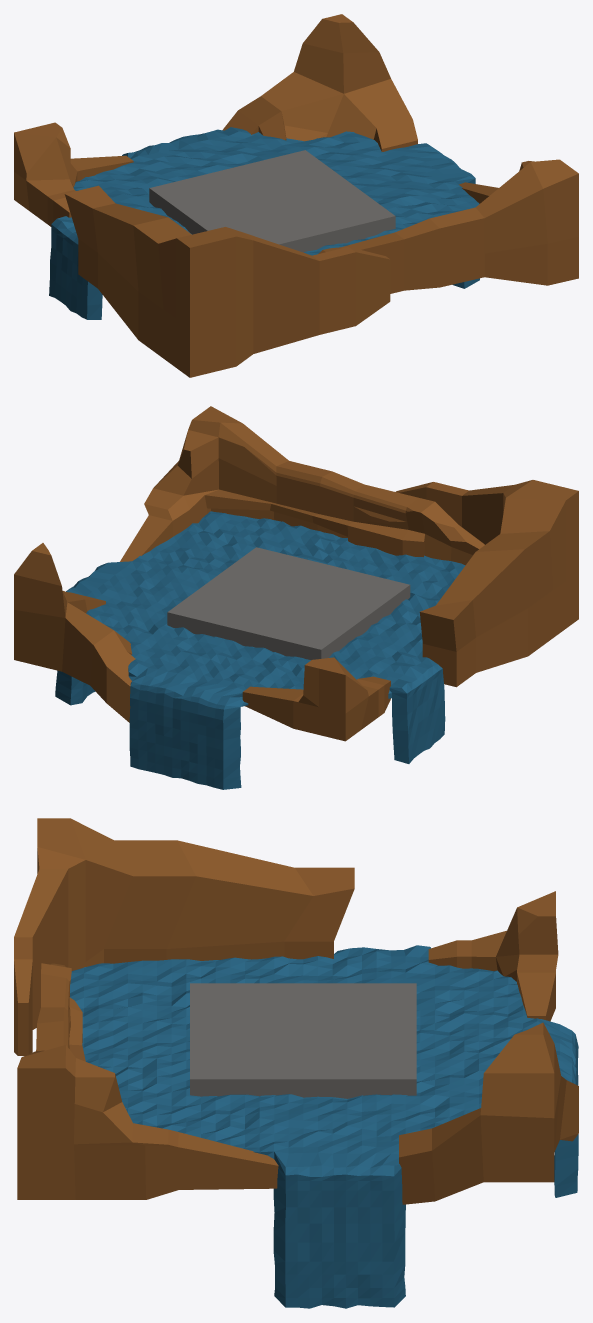
Rendered from WaterArena.fbx.
3 renders of one model, top to bottom at view 1: azimuth 30°, elevation 25°; view 2: azimuth 150°, elevation 25°; view 3: azimuth 270°, elevation 25°, orthographic. The views are drawn at different scales.
Parts seen in each view (by area): view 1: Wall2, Water, Wall1, ArenaGround, Wall4, Wall3; view 2: Water, Wall2, Wall1, ArenaGround, Wall4, Wall3; view 3: Water, Wall2, Wall1, ArenaGround, Wall4, Wall3.
Part boxes in pixels (x1=…): Wall2: x1=64, y1=185, x2=390, y2=377; Water: x1=49, y1=127, x2=479, y2=319; Wall1: x1=318, y1=159, x2=578, y2=293; ArenaGround: x1=149, y1=150, x2=395, y2=252; Wall4: x1=222, y1=14, x2=417, y2=151; Wall3: x1=14, y1=122, x2=133, y2=226; Water: x1=55, y1=511, x2=465, y2=789; Wall2: x1=396, y1=480, x2=578, y2=687; Wall1: x1=120, y1=406, x2=484, y2=565; ArenaGround: x1=167, y1=547, x2=410, y2=660; Wall4: x1=14, y1=543, x2=135, y2=722; Wall3: x1=242, y1=657, x2=390, y2=741; Water: x1=70, y1=945, x2=578, y2=1308; Wall2: x1=14, y1=818, x2=354, y2=1055; Wall1: x1=17, y1=963, x2=278, y2=1199; ArenaGround: x1=190, y1=983, x2=416, y2=1098; Wall4: x1=399, y1=1022, x2=578, y2=1204; Wall3: x1=428, y1=891, x2=558, y2=1021.
Size of the model in its own units: 9876 by 4816 by 9734.
